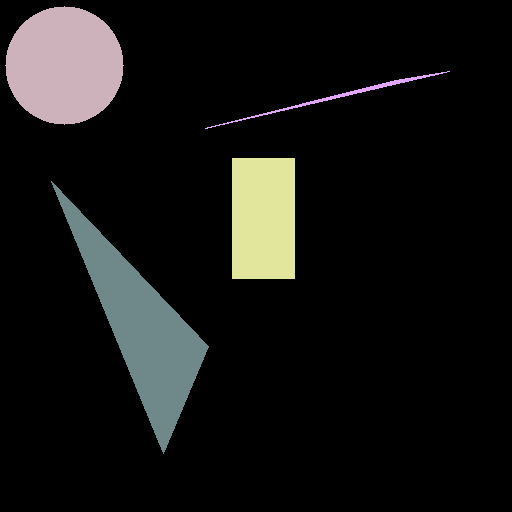circle: (5, 6, 123, 124)
rectangle: (232, 158, 294, 278)
triangle: (51, 181, 208, 453)
